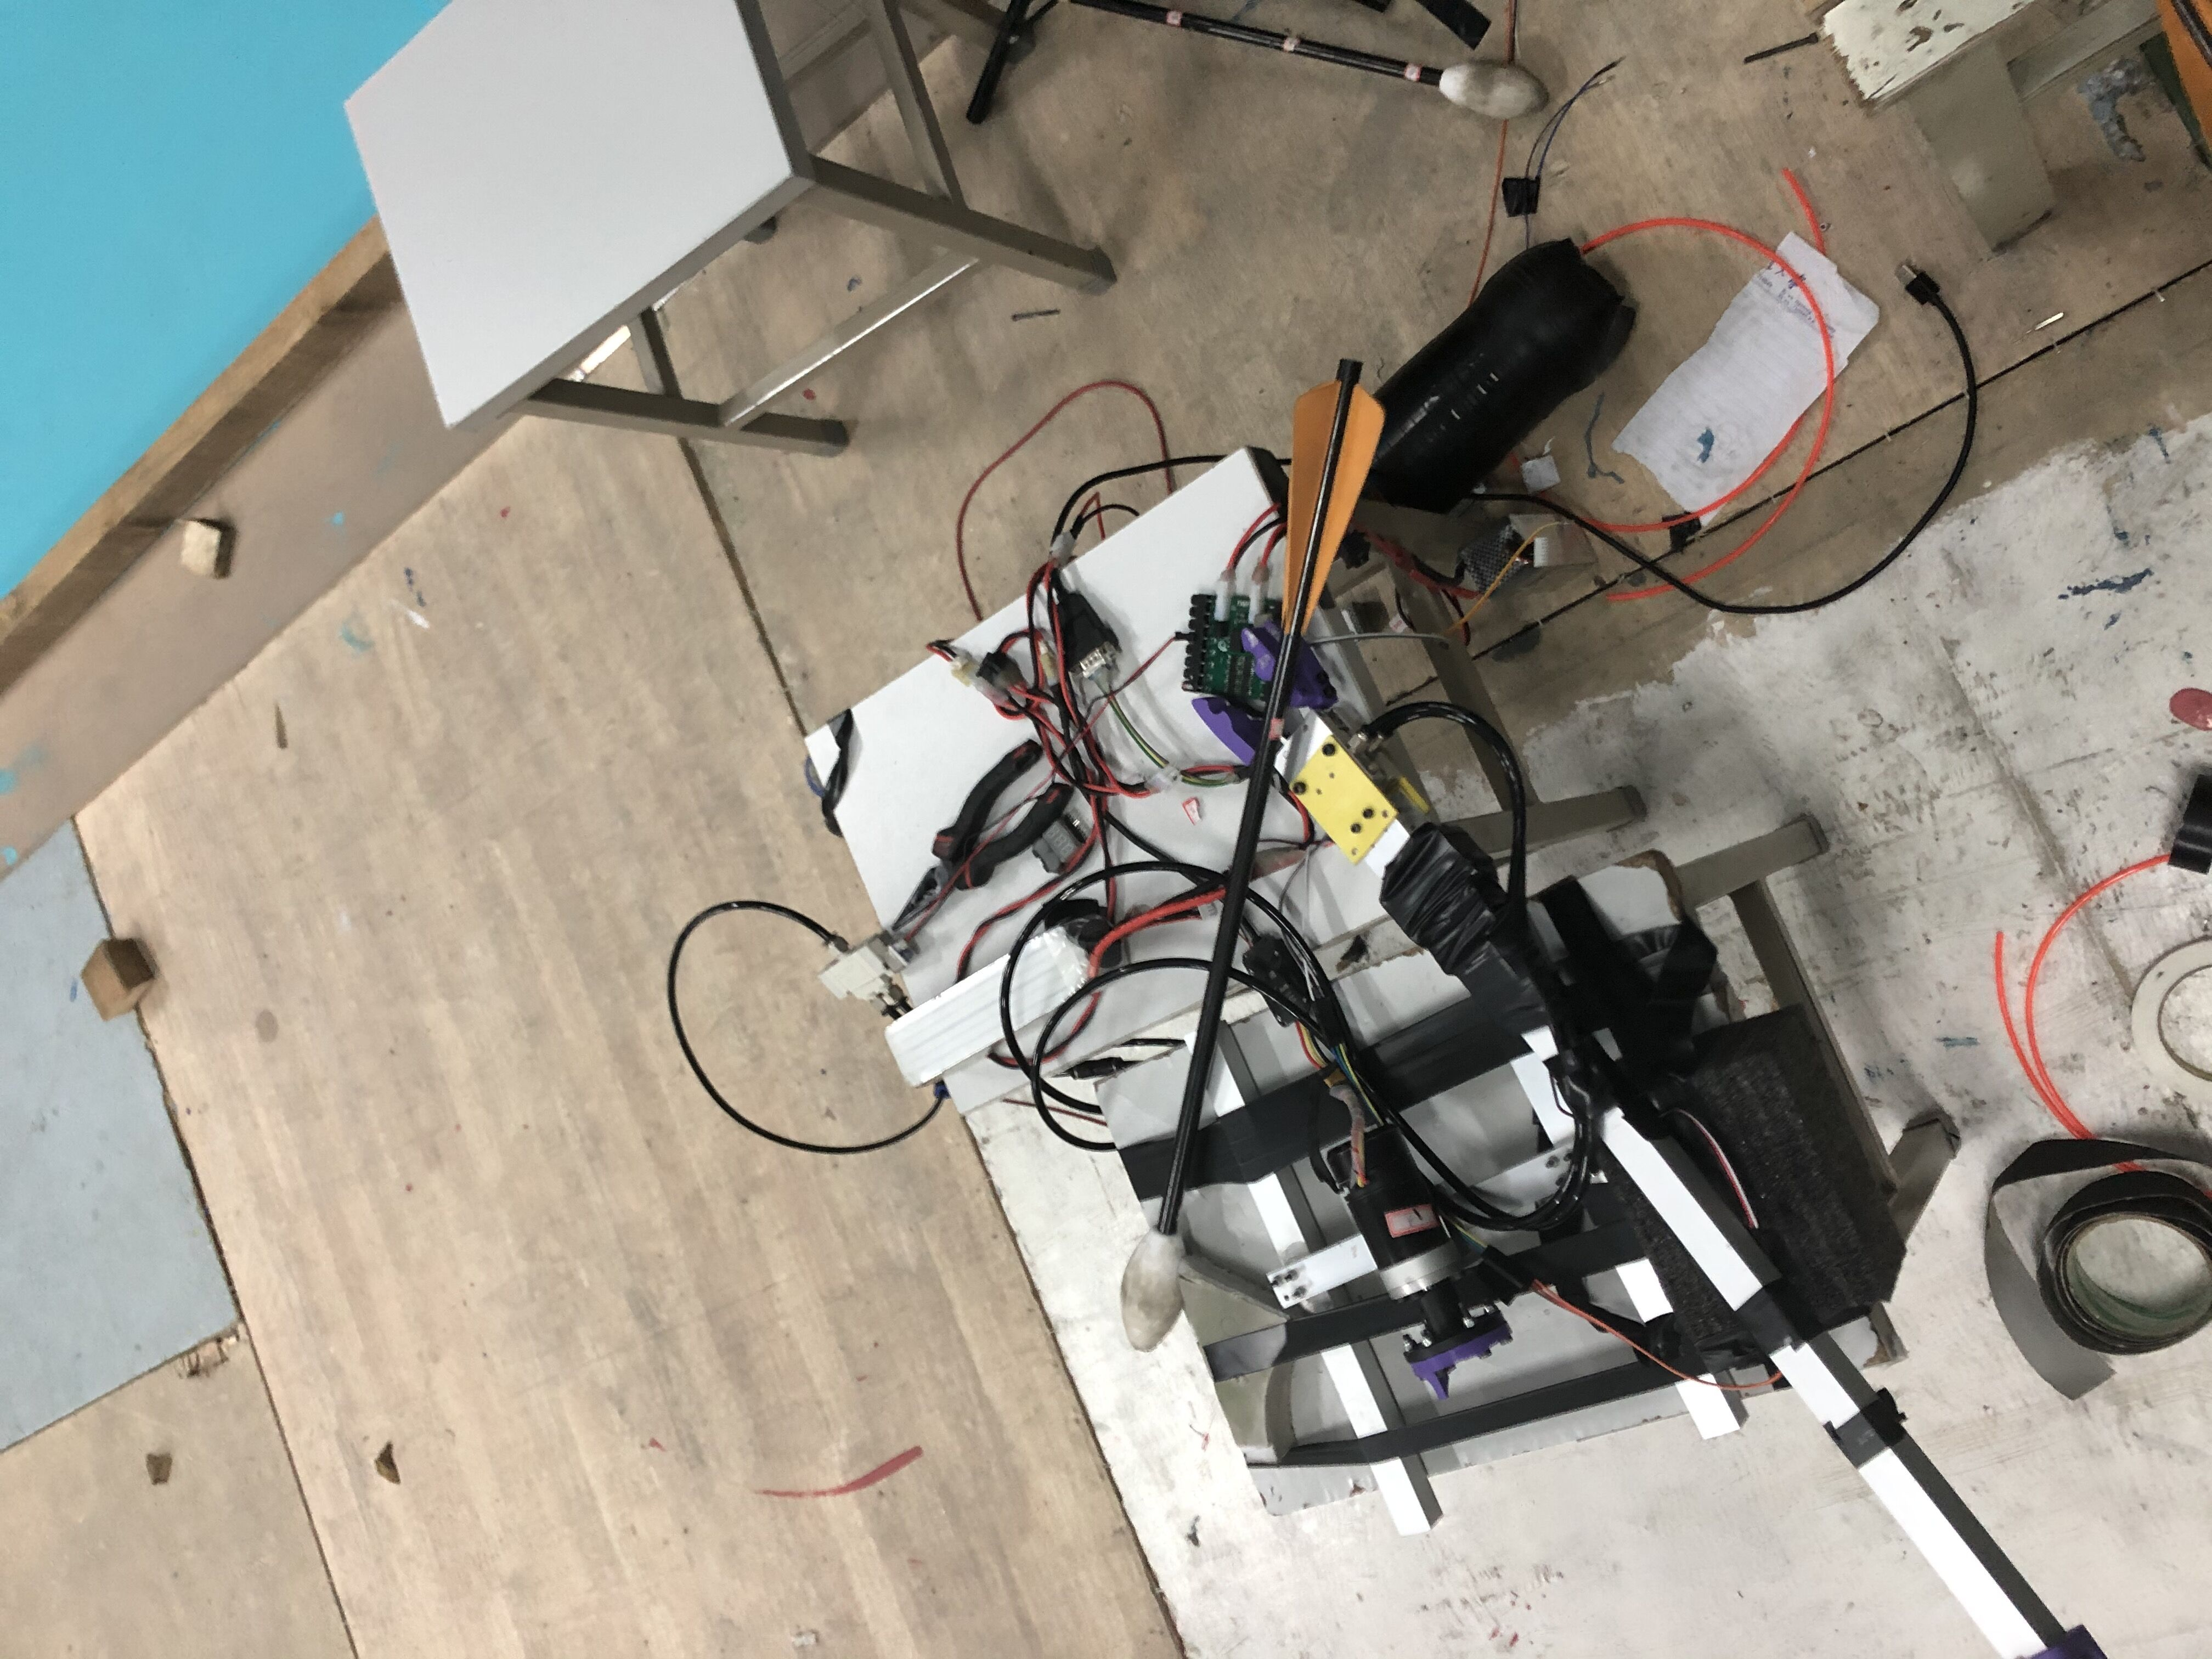arrow: (1118, 352, 1386, 1354)
arrowFront: (1122, 1230, 1191, 1356)
